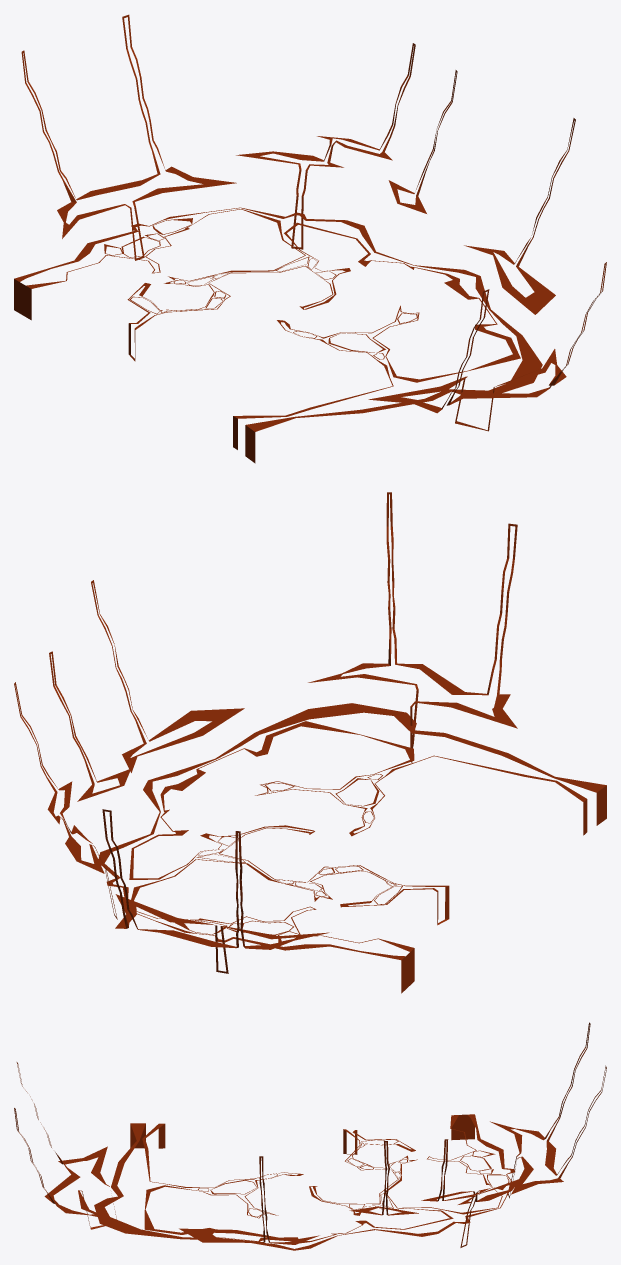
File: Lava_02.FBX
3 views of the same model, one above another, from view 1: azimuth 30°, elevation 25°; view 2: azimuth 150°, elevation 25°; view 3: azimuth 270°, elevation 25° (orthographic). The views are drawn at different scales.
Visible parts, largest first — view 1: Lava_02; view 2: Lava_02; view 3: Lava_02.
Part boxes in pixels (box(x1,y1,x2,y2)): Lava_02: box(14, 14, 606, 463); Lava_02: box(14, 492, 606, 993); Lava_02: box(14, 1022, 606, 1250).
Bounding box in the file's own units: 23.64 × 9.93 × 35.93.
